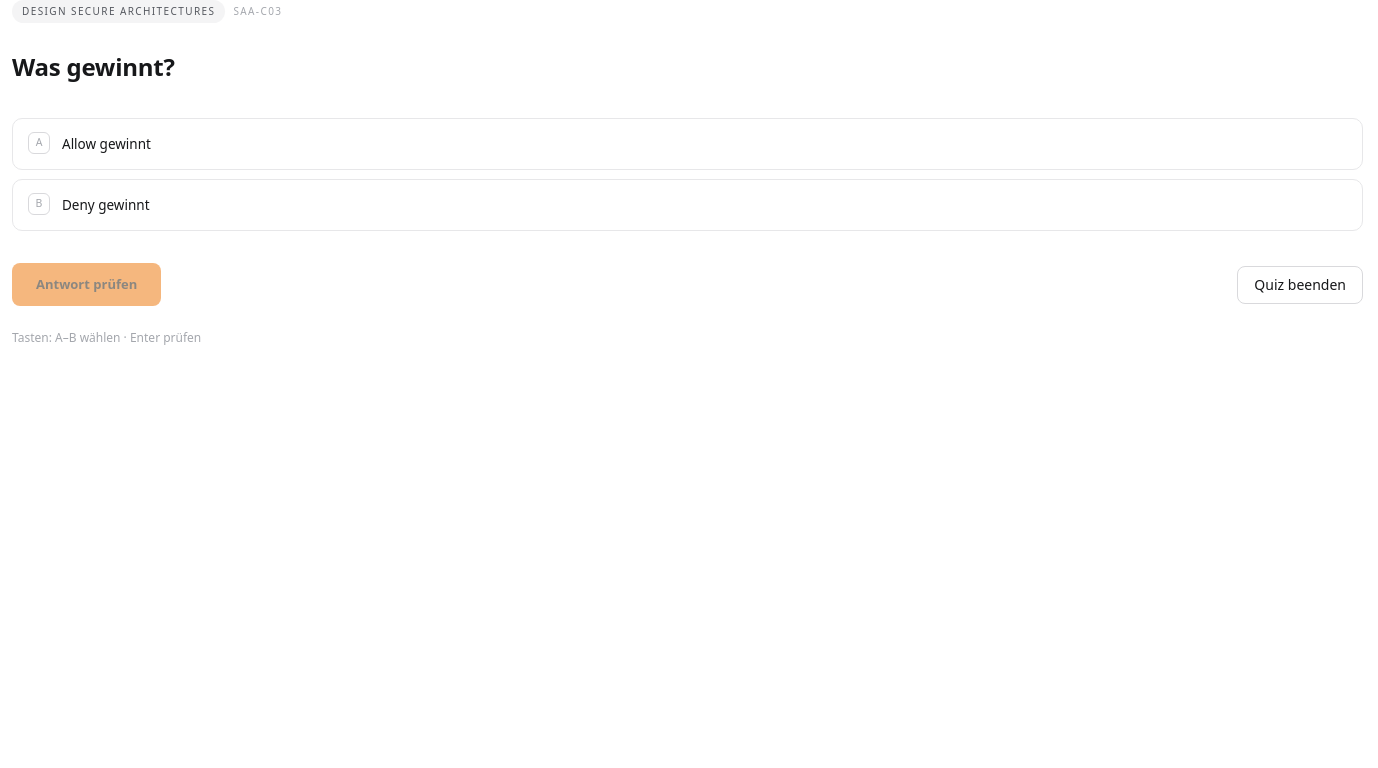
QuestionCard structured explanation › renders verdict body, Eselsbrücke/Prüfungsfalle boxes and option rows
The width and height of the screenshot is (1378, 768).
Click the button "A Allow gewinnt" at (106, 144), box [12,118,1363,170]
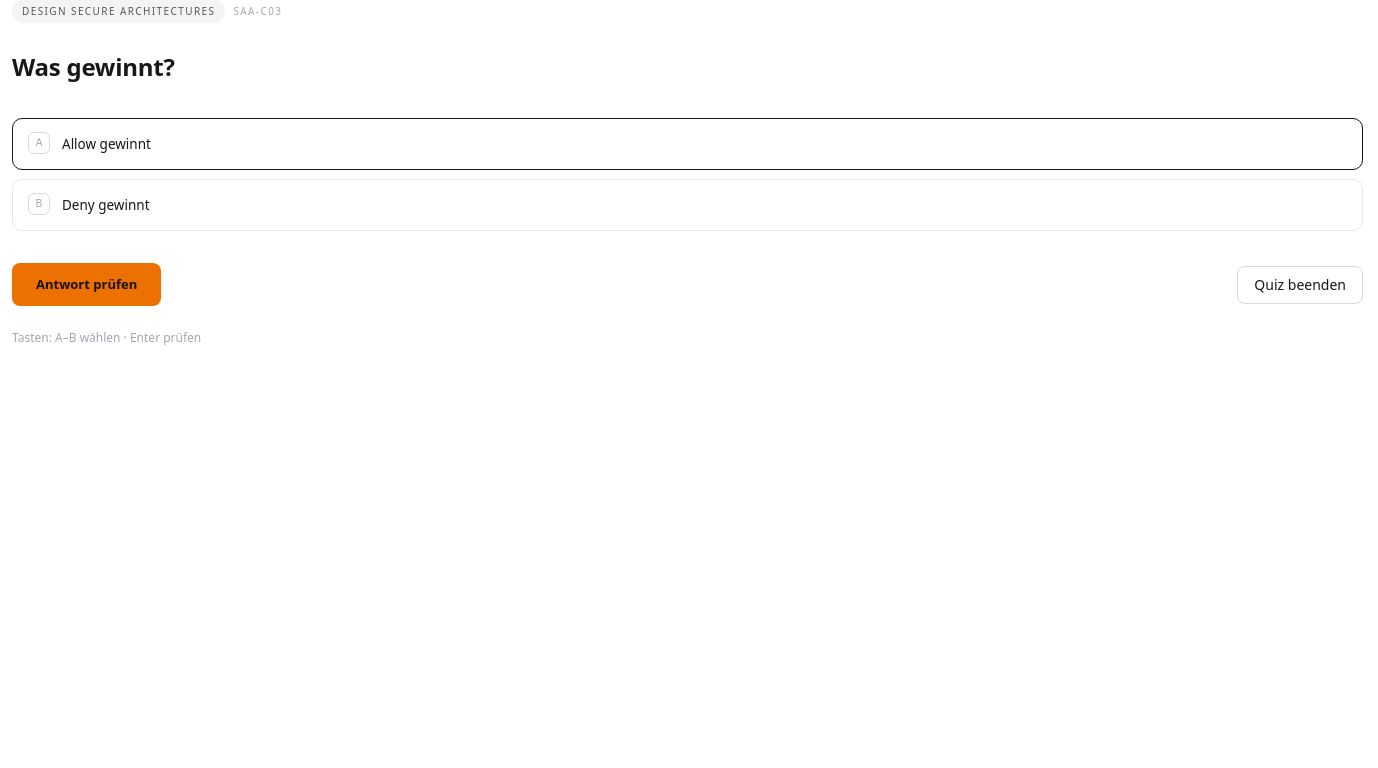
Click the button "Antwort prüfen" at (87, 285), box [12,263,161,306]
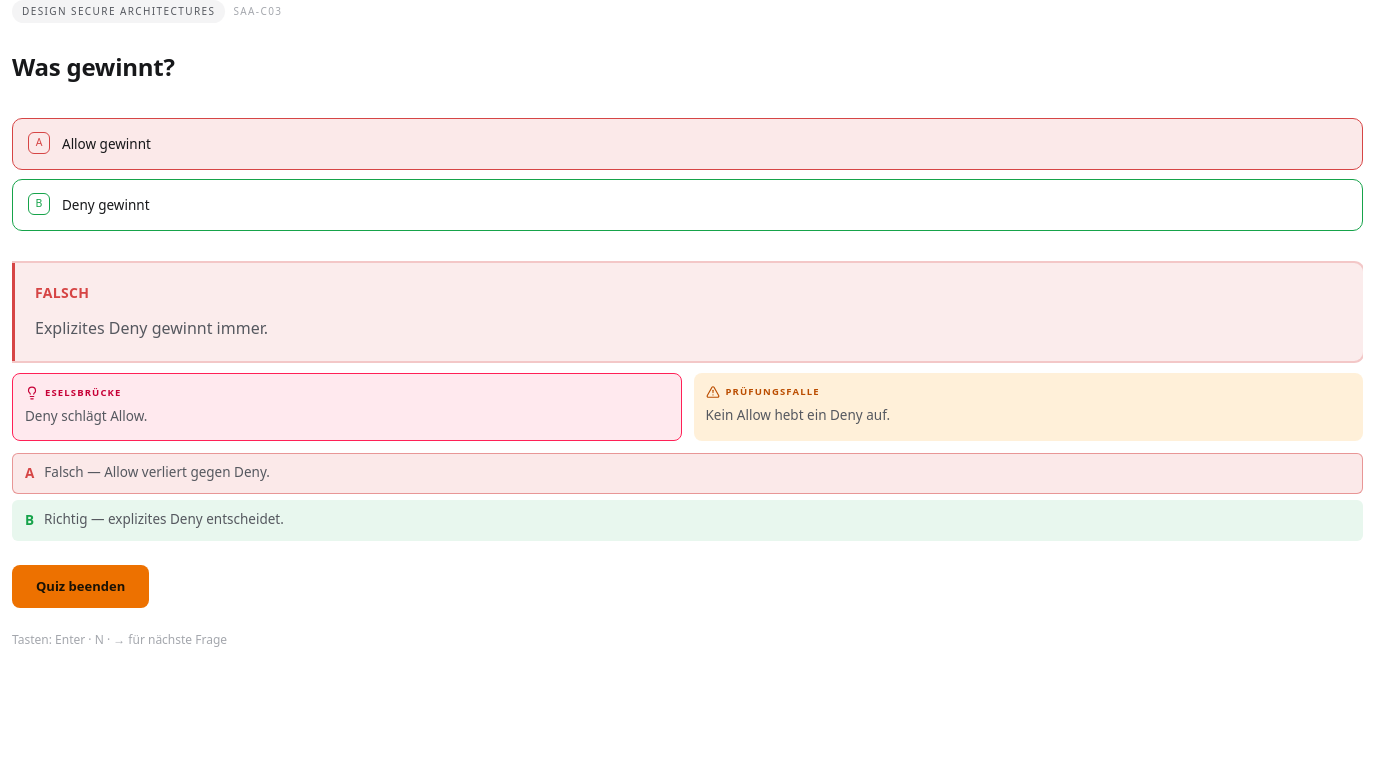
Check: the text "Falsch" is shown, box [35,283,89,302]
Check: the text "Explizites Deny gewinnt immer." is shown, box [35,317,268,339]
Check: the heading "Eselsbrücke" is shown, box [25,386,122,400]
